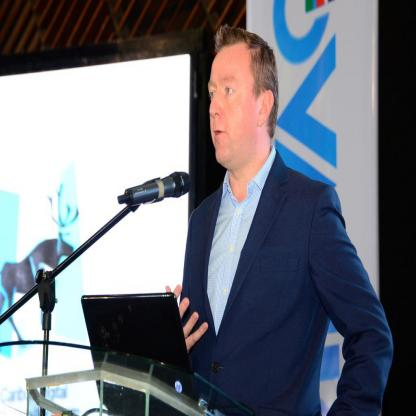board: (80, 292, 230, 412)
